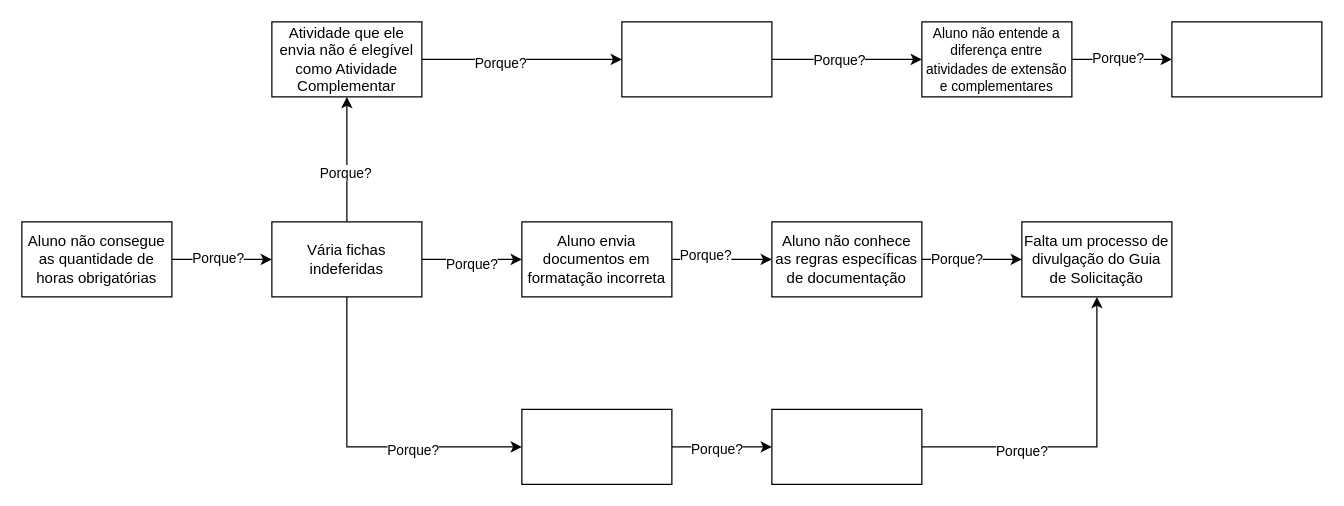
Image size: 1344x506. Some labels were removed from this diagram. The centre of each missing label's shape, as x and y in pixels:
"Aluno faz cursos extracurriculares no período da aula" belongs at (x=596, y=446).
"Aluno não conhece as observações feitas pelo Colegiado" belongs at (x=846, y=446).
"Atividade realizada faz parte de uma Disciplina Obrigatória" belongs at (x=696, y=59).
"Falta uma orientação que exemplifique a diferença entre as atividades" belongs at (x=1246, y=59).
